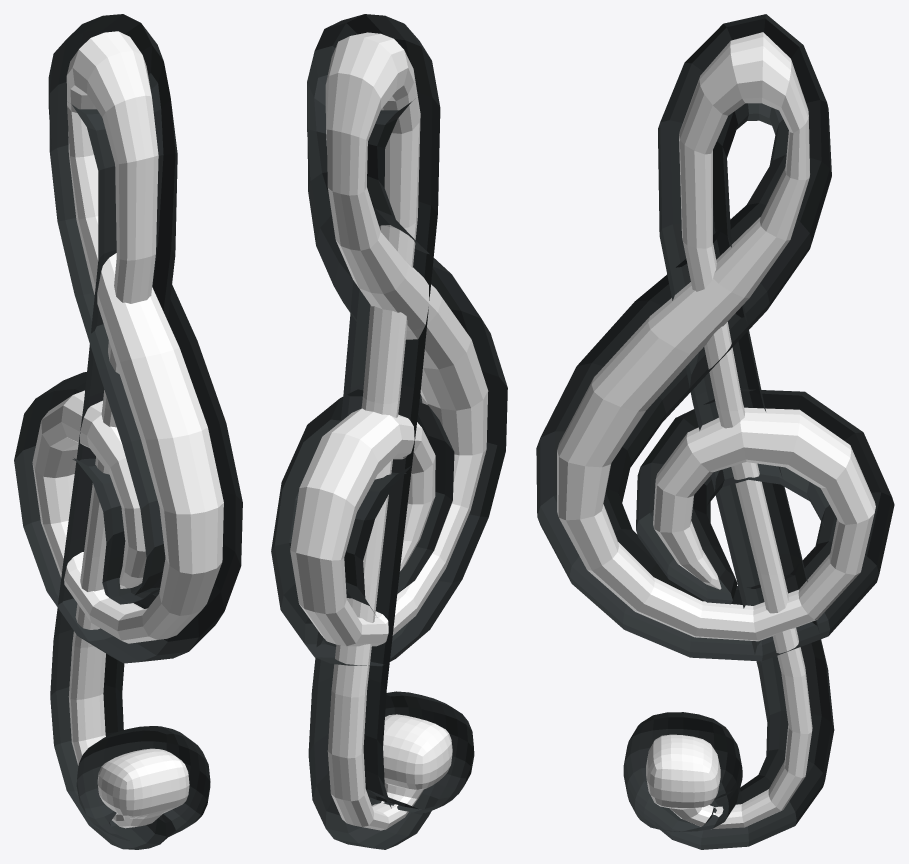
The model's file is LD51NoteParticle3.fbx.
3 renders of one model, left to right at view 1: azimuth 30°, elevation 25°; view 2: azimuth 150°, elevation 25°; view 3: azimuth 270°, elevation 25°, orthographic. The views are drawn at different scales.
Parts seen in each view (by area): view 1: Note_Particle3, Note_Particle3_Outline; view 2: Note_Particle3, Note_Particle3_Outline; view 3: Note_Particle3, Note_Particle3_Outline.
Part boxes in pixels (x1,y1,x2,y2): Note_Particle3: (32, 31, 223, 828); Note_Particle3_Outline: (14, 14, 242, 849); Note_Particle3: (290, 32, 488, 830); Note_Particle3_Outline: (271, 14, 507, 849); Note_Particle3: (557, 32, 875, 829); Note_Particle3_Outline: (536, 14, 894, 849).
Bounding box in the file's own units: 177 × 480 × 1220.
